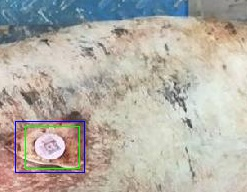text: (25, 126, 79, 168)
